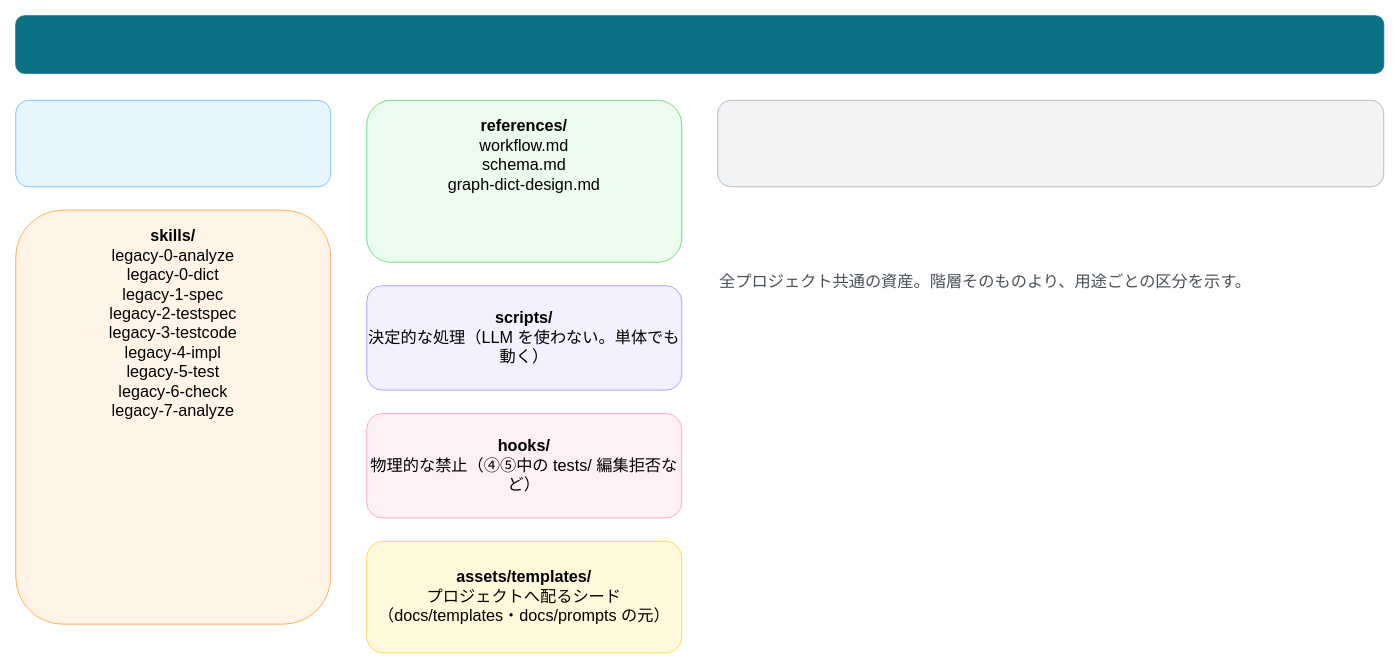
This 1400x669 diagram has some shape labels left out. Each missing label, with the centre of its shape:
"legacy-reverse/" belongs at point (699, 44).
"SKILL.md 全体管理（状況表示・次の一手・セットアップ）" belongs at point (173, 143).
"付属文書 ARCHITECTURE.md / DESIGN.md / MANUAL.md / QUICKREF.md / slides/" belongs at point (1050, 143).
